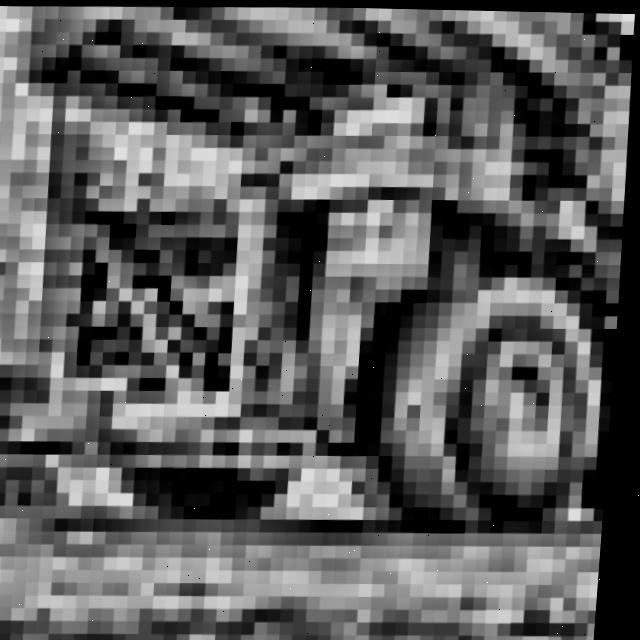dump_truck: (0, 0, 640, 605)
